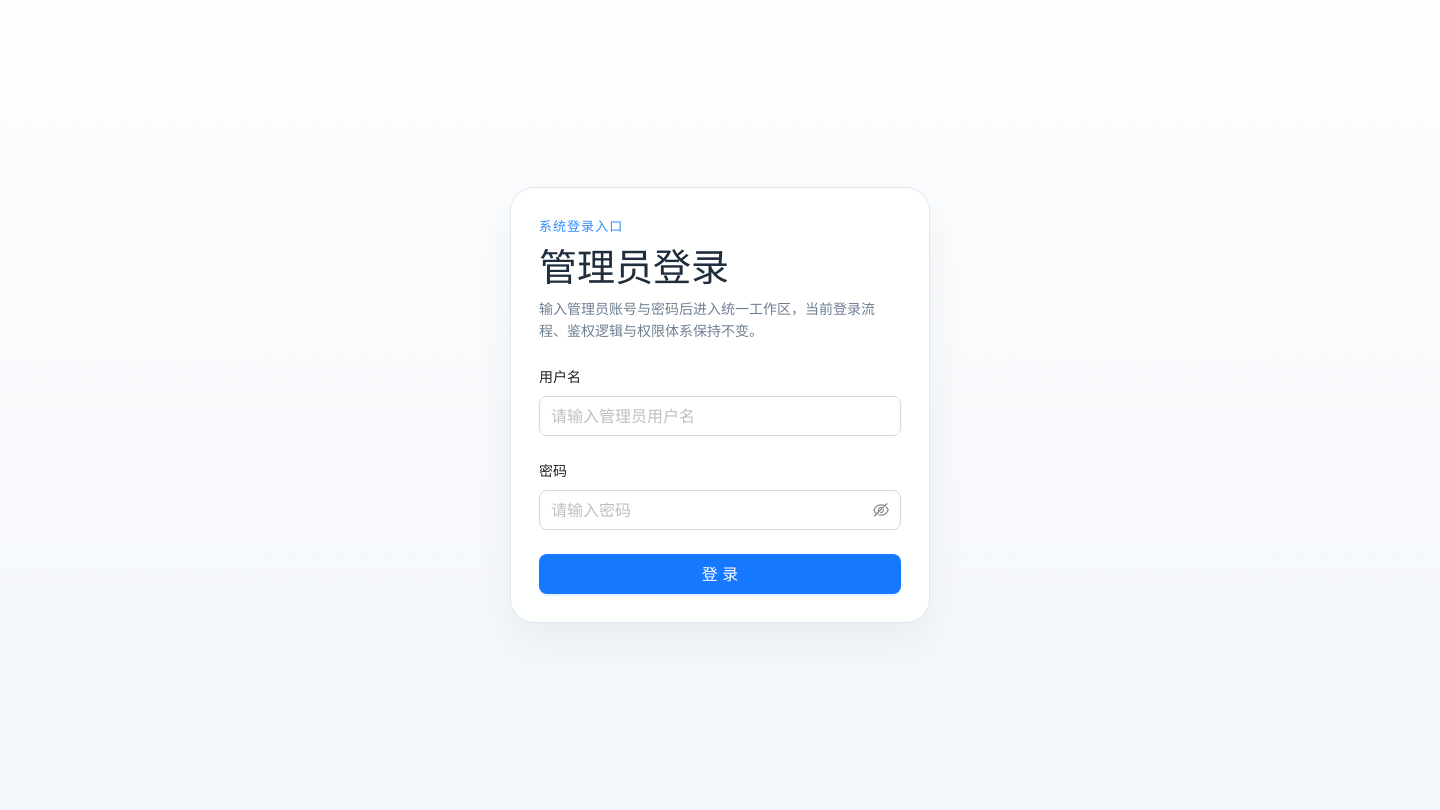
it: App › logs out and returns to login page
Type "admin" into the field labelled "用户名" at (720, 416), box [539,396,901,436]
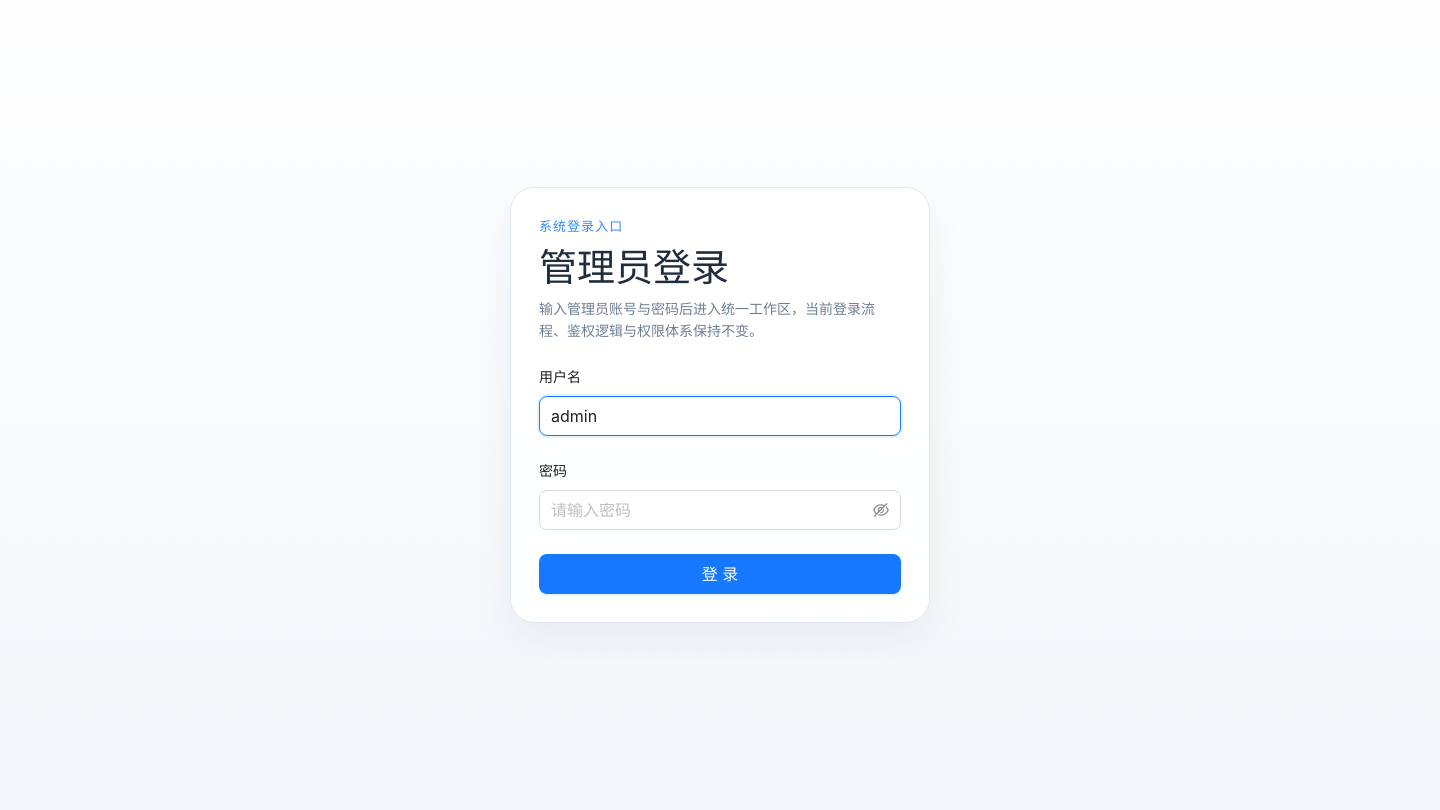
Type "Admin@123456" into the password field labelled "密码" at (710, 510), box [551,498,869,522]
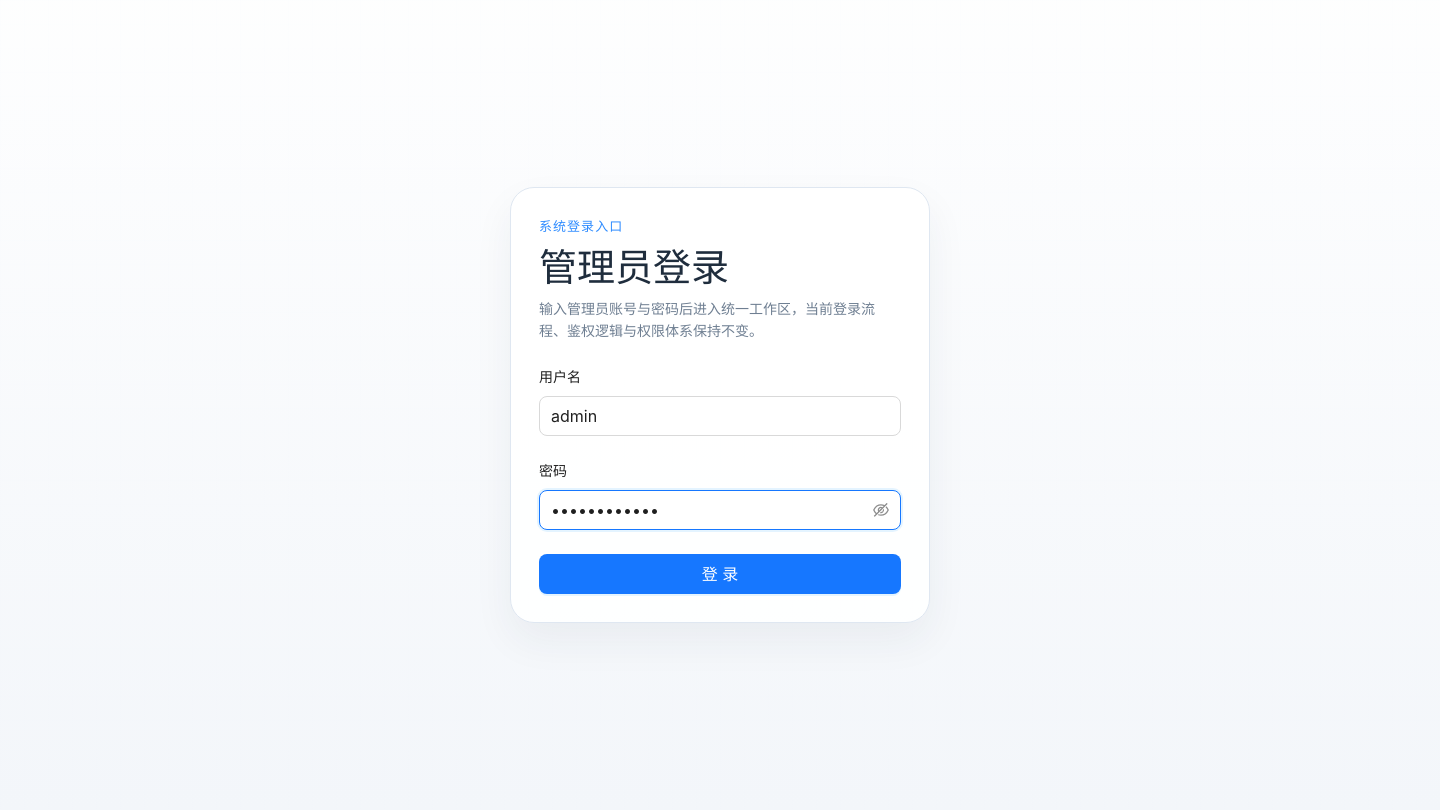
Click the button named "登录" at (720, 574), box [539,554,901,594]
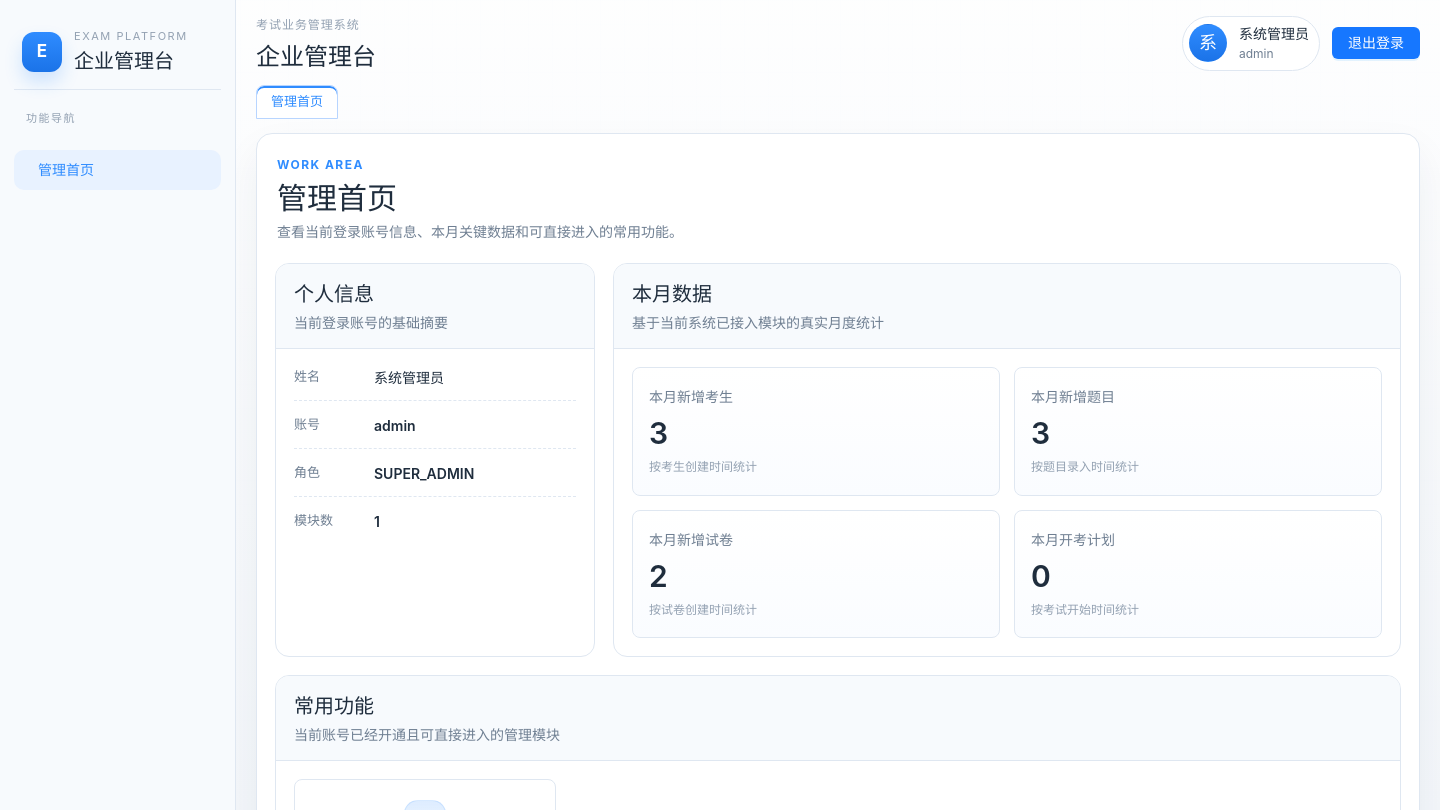
Now the heading "管理首页" is shown, box [277,180,397,216]
Click the button "退出登录" at (1376, 43), box [1332,27,1420,59]
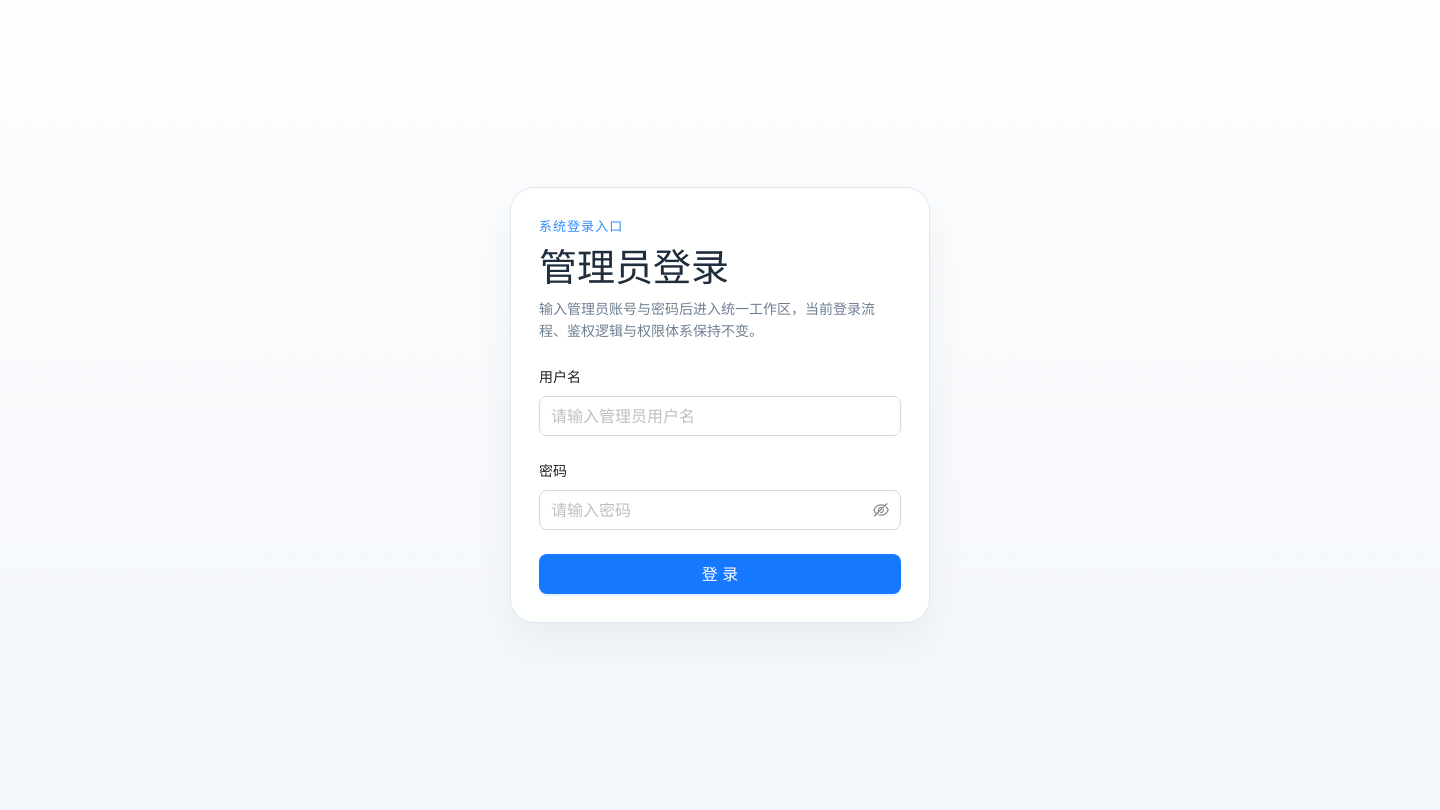
Now the heading "管理员登录" is shown, box [539,244,729,290]
